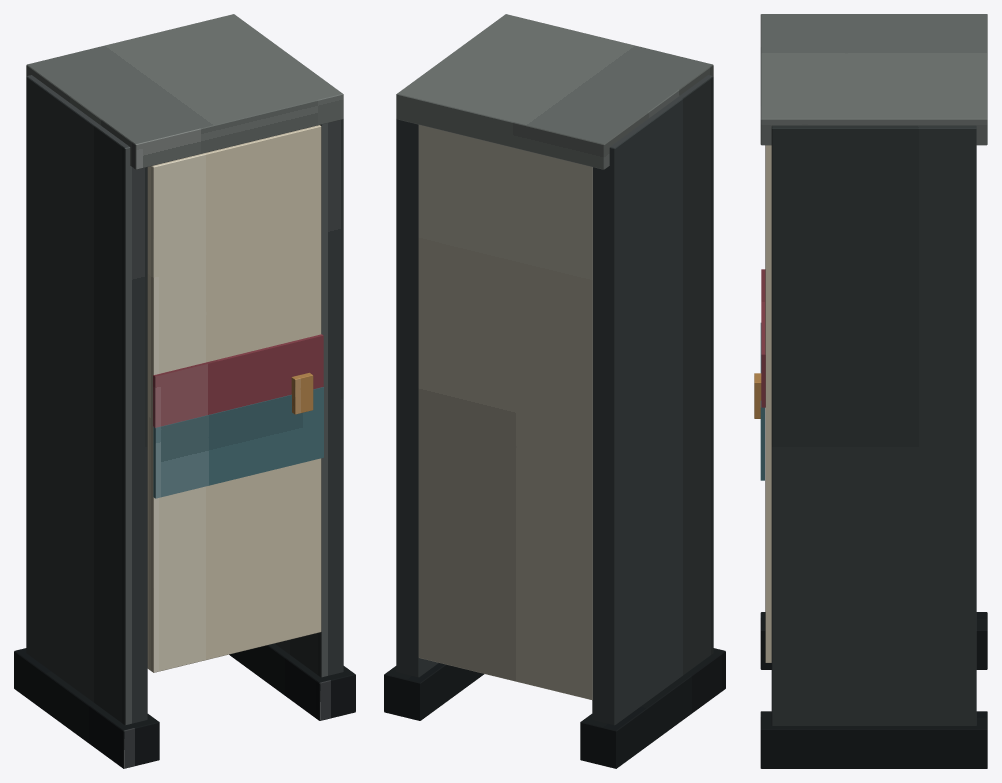
Rendered from bathroom_stall.glb.
3 views of the same model, side by side, from view 1: azimuth 30°, elevation 25°; view 2: azimuth 150°, elevation 25°; view 3: azimuth 270°, elevation 25° (orthographic). The views are drawn at different scales.
Visible parts, largest first — view 1: StallPost_L, StallDoor, TopRail, StallPost_R, DoorBlueBand, DoorRedBand, StallFoot_L, StallFoot_R, DoorHandle; view 2: StallBack, StallPost_L, TopRail, StallPost_R, StallFoot_L, StallFoot_R; view 3: StallPost_R, TopRail, StallFoot_R, StallDoor, StallFoot_L, DoorRedBand, DoorBlueBand.
Part boxes in pixels (box(x1,y1,x2,y2)): StallPost_L: box(26, 75, 147, 725); StallDoor: box(147, 125, 321, 672); TopRail: box(26, 14, 343, 169); StallPost_R: box(275, 119, 343, 677); DoorBlueBand: box(153, 387, 323, 498); DoorRedBand: box(153, 334, 323, 427); StallFoot_L: box(14, 648, 159, 768); StallFoot_R: box(229, 643, 355, 720); DoorHandle: box(291, 372, 313, 414); StallBack: box(418, 125, 592, 699); StallPost_L: box(592, 75, 713, 725); TopRail: box(396, 14, 713, 169); StallPost_R: box(396, 119, 438, 677); StallFoot_L: box(580, 648, 725, 768); StallFoot_R: box(384, 663, 484, 720); StallPost_R: box(771, 125, 976, 725); TopRail: box(760, 14, 987, 145); StallFoot_R: box(760, 711, 987, 768); StallDoor: box(765, 145, 771, 662); StallFoot_L: box(760, 612, 987, 669); DoorRedBand: box(761, 269, 765, 407); DoorBlueBand: box(760, 323, 764, 480).
Size of the model in its own units: 0.76 by 1.94 by 0.6375.
1 material, 1 textured.
